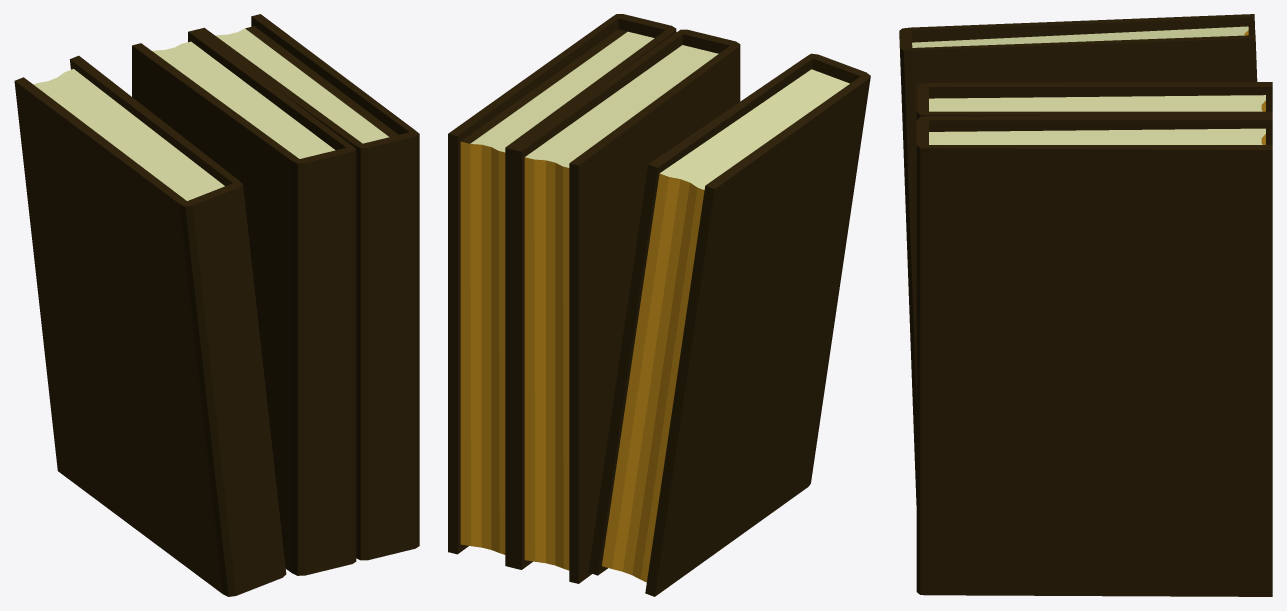
The model's file is libro_estante_3_001.fbx.
The picture shows the model from 3 angles, left to right: view 1: azimuth 30°, elevation 25°; view 2: azimuth 150°, elevation 25°; view 3: azimuth 270°, elevation 25°; orthographic projection. The views are drawn at different scales.
Parts seen in each view (by area): view 1: libro_estante_3.001; view 2: libro_estante_3.001; view 3: libro_estante_3.001.
Part boxes in pixels (x1=…): libro_estante_3.001: x1=14, y1=14, x2=419, y2=596; libro_estante_3.001: x1=448, y1=14, x2=870, y2=596; libro_estante_3.001: x1=899, y1=14, x2=1272, y2=596.
Bounding box in the file's own units: 33.77 × 54.1 × 39.61.
